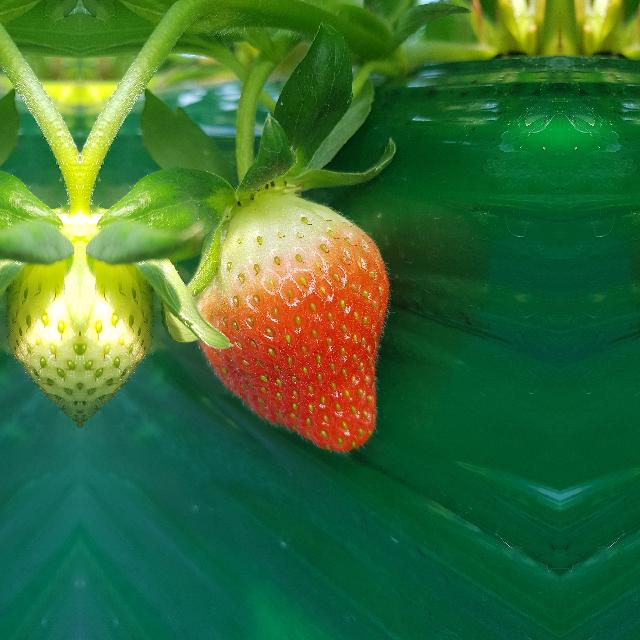Health_25: (80, 212, 162, 428), (0, 212, 80, 428)
Health_50: (194, 192, 390, 452)
